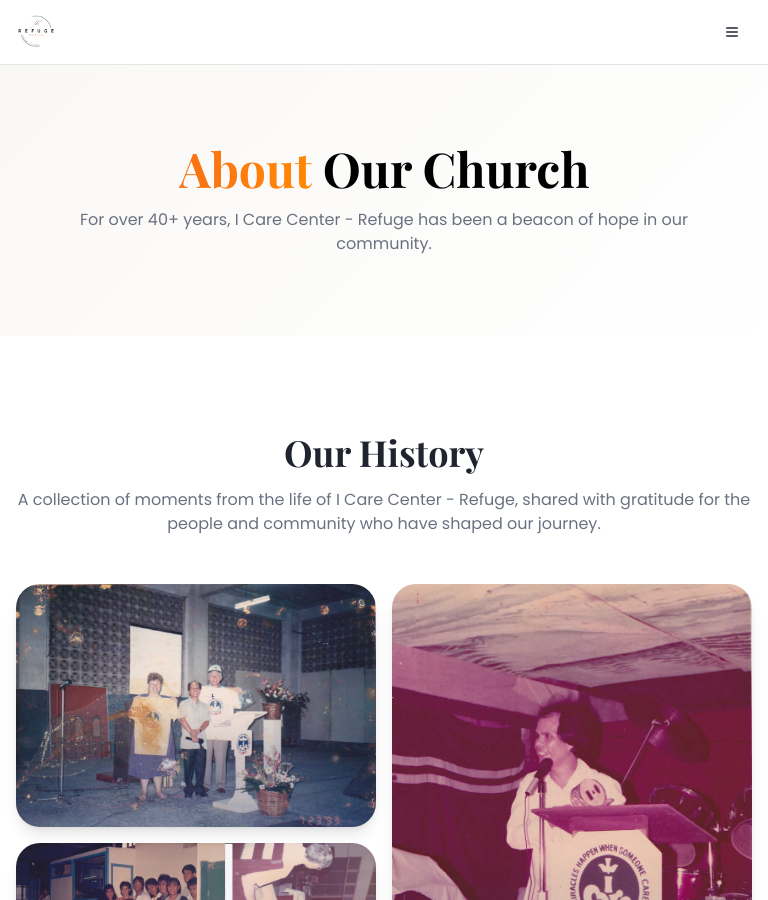
Test case: Navbar accordion surface › keeps the expanded mobile menu opaque
Click the button named "Open menu" at (732, 32), box [712,12,752,52]
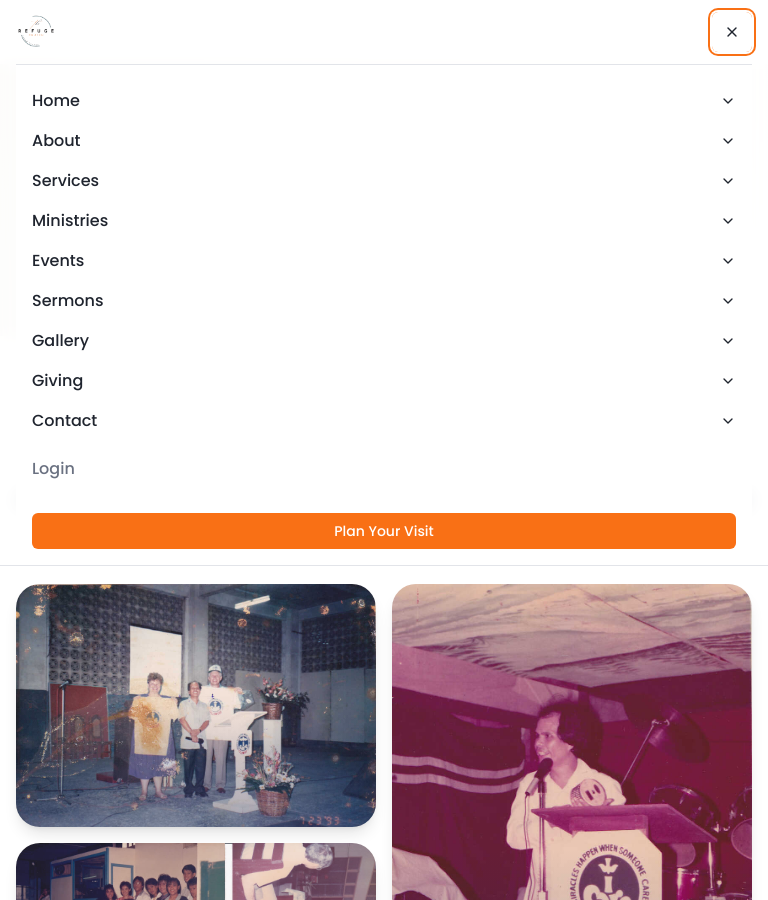
Click the button "Home" at (56, 101), box [32,81,736,121]
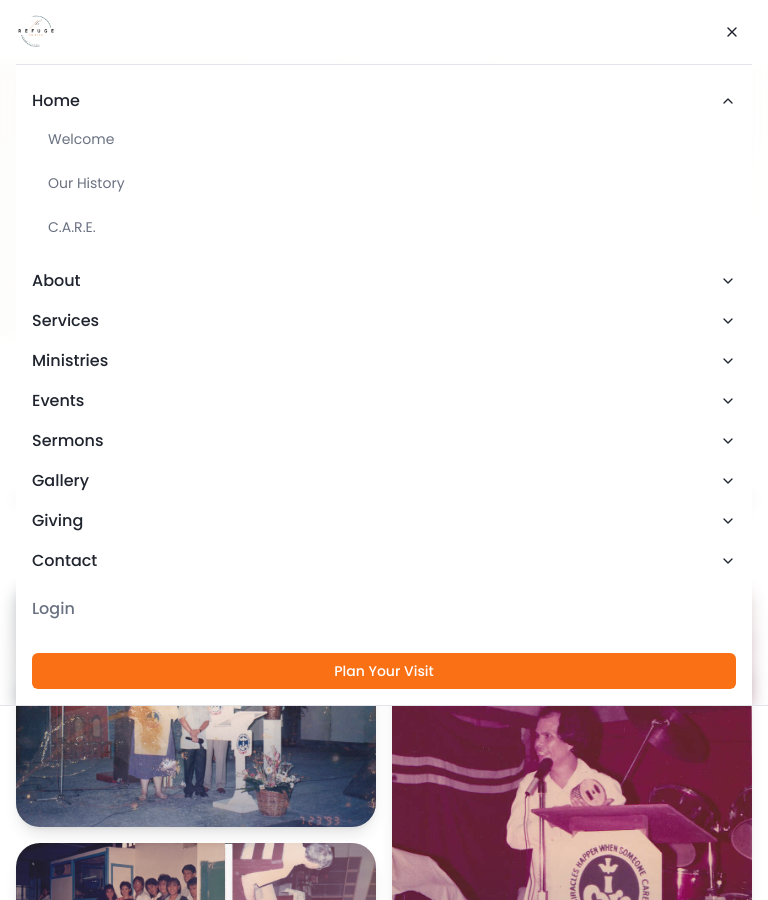
Check: the link "Welcome" is shown, box [48,129,114,149]
